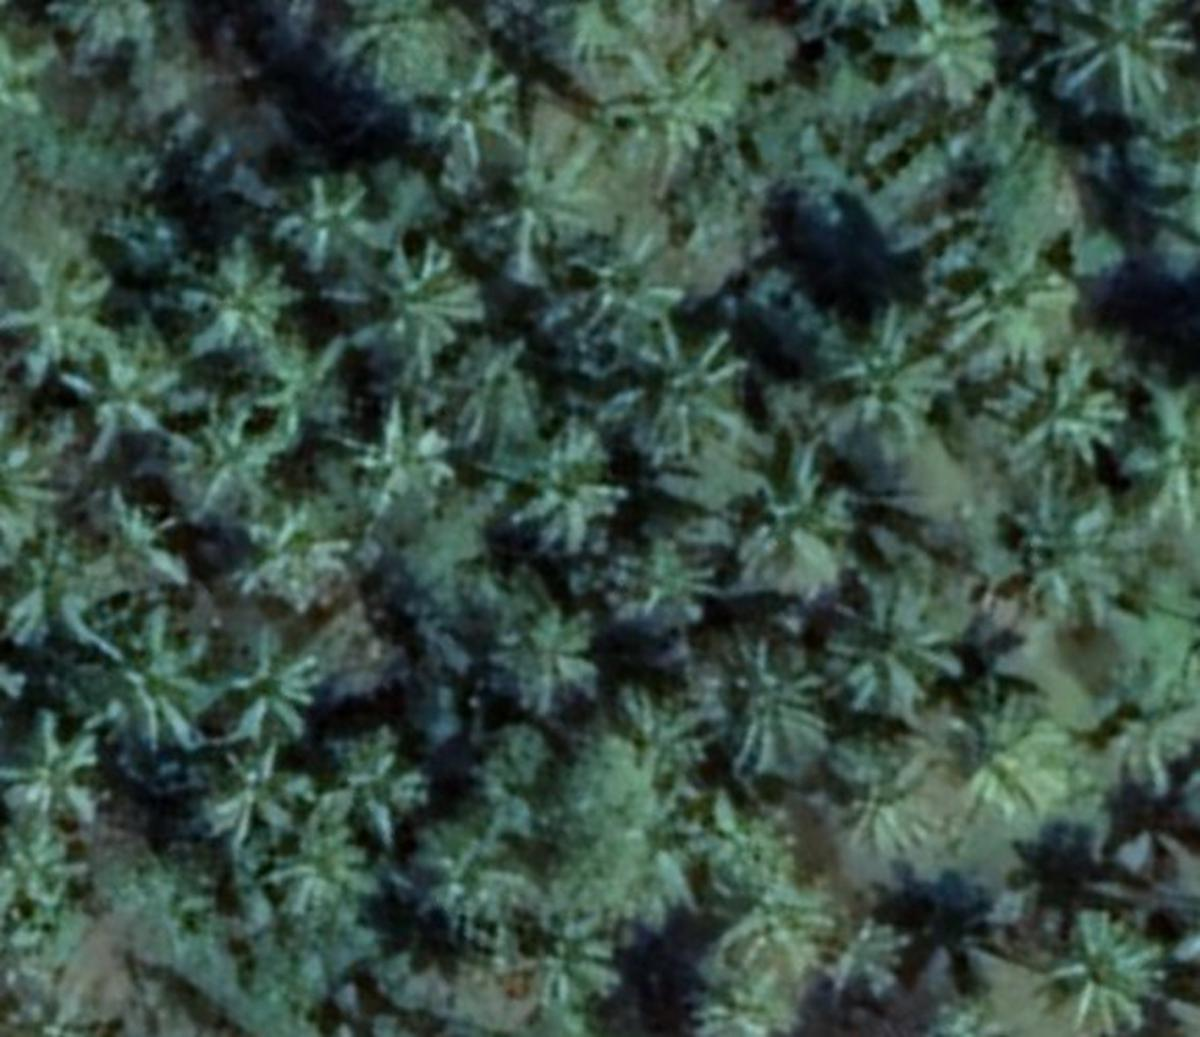coconut: (328, 391, 480, 542), (817, 567, 964, 722), (697, 637, 835, 776), (821, 730, 957, 869), (360, 233, 494, 374), (548, 215, 693, 345), (1038, 906, 1181, 1037), (806, 291, 949, 419), (86, 618, 208, 767), (1036, 2, 1187, 122), (962, 695, 1100, 827), (176, 242, 314, 368), (614, 47, 744, 182), (1017, 482, 1142, 614), (502, 413, 618, 552), (490, 608, 618, 732), (314, 720, 436, 850), (622, 331, 746, 455), (403, 55, 537, 169), (2, 264, 132, 382), (74, 337, 206, 449), (233, 492, 351, 616), (273, 163, 403, 277), (517, 902, 631, 1028), (163, 399, 285, 515), (1001, 347, 1119, 465), (608, 525, 730, 637), (227, 639, 339, 757), (264, 814, 378, 929), (4, 709, 105, 827), (486, 157, 581, 275), (217, 751, 312, 850)
